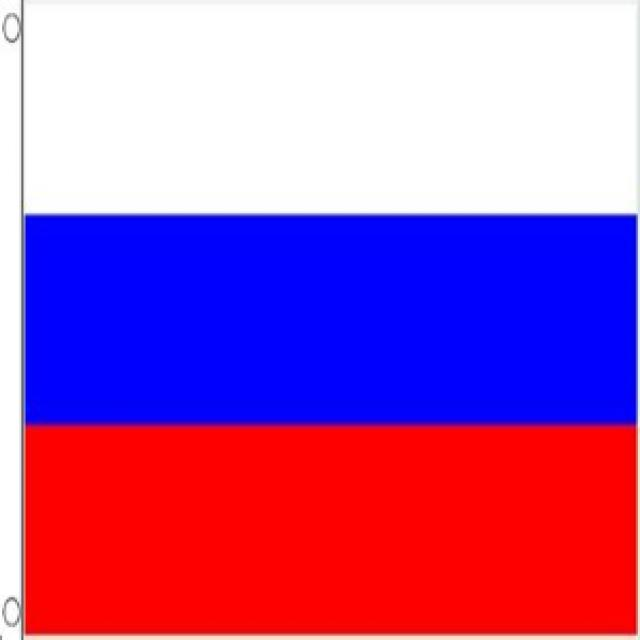russia: (16, 14, 576, 622)
